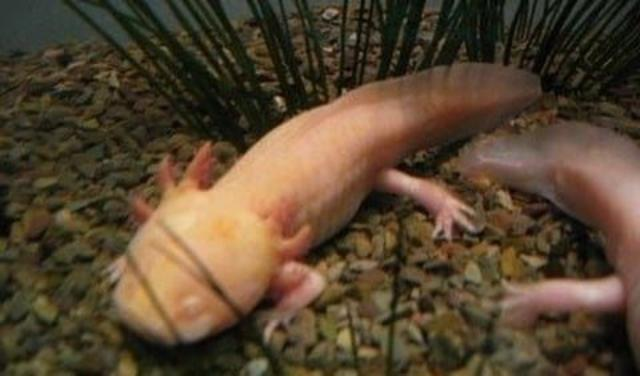Sirip Ekor: (418, 48, 554, 168)
